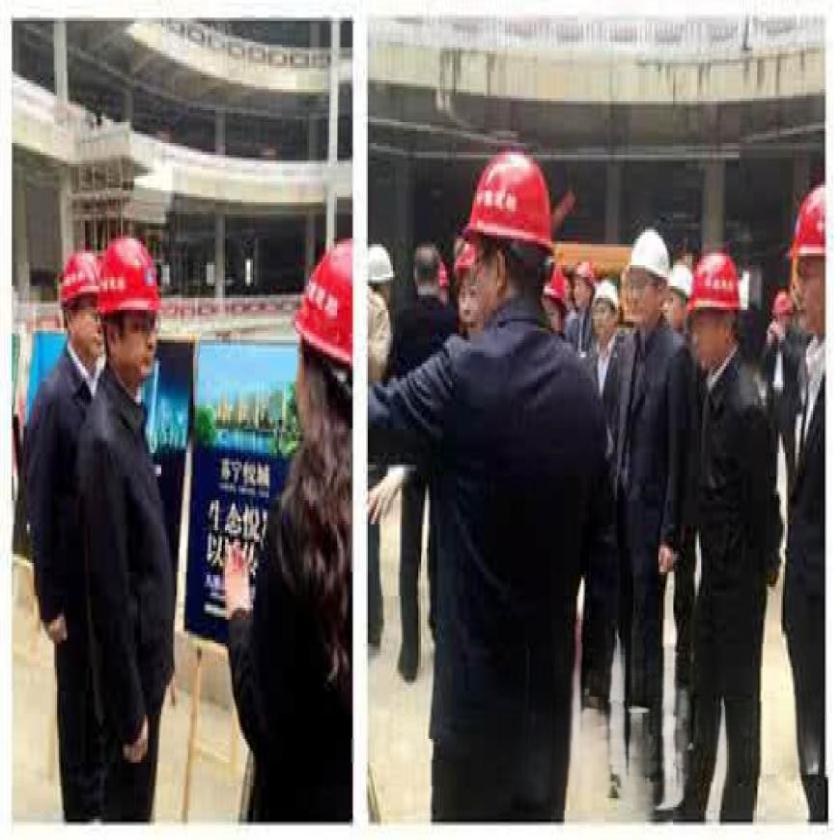Con_casco: (457, 145, 552, 331), (94, 234, 163, 394), (686, 250, 746, 373)
